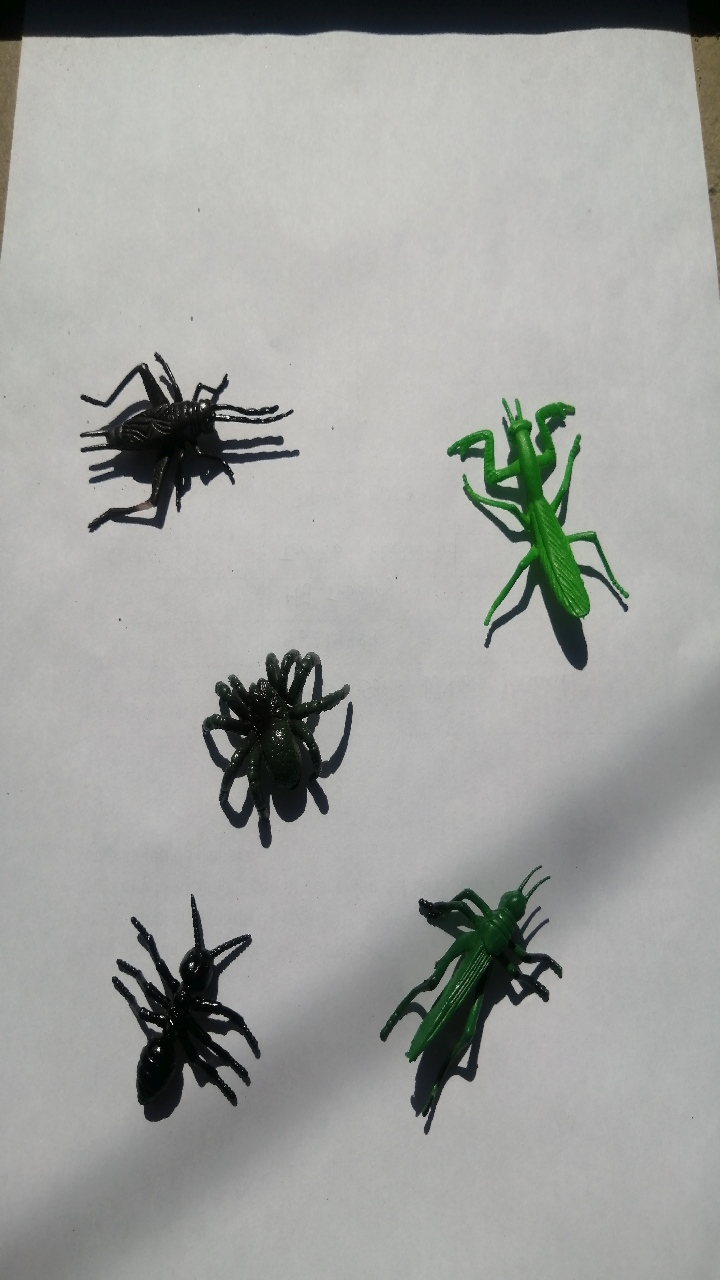intruso: (421, 352, 652, 680), (40, 328, 348, 562), (363, 837, 571, 1140), (71, 868, 289, 1155), (166, 628, 371, 846)
